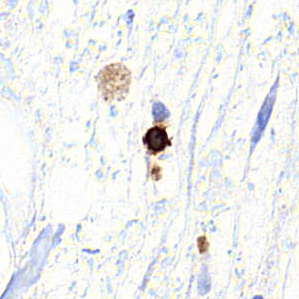Lymphocyte: (142, 126, 172, 155)
